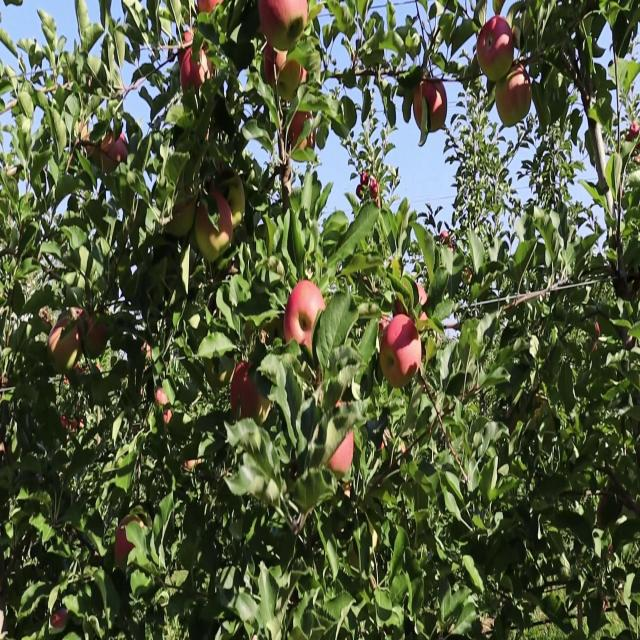apple: (284, 277, 328, 356), (380, 312, 424, 389), (196, 184, 235, 265), (476, 21, 517, 85), (496, 63, 533, 128), (264, 42, 300, 100), (232, 362, 265, 421), (416, 78, 449, 135), (48, 319, 78, 375), (180, 44, 212, 94), (328, 426, 356, 478), (276, 56, 303, 105), (116, 519, 144, 565), (172, 191, 197, 240), (192, 42, 216, 92), (84, 312, 109, 357), (100, 135, 128, 172), (264, 42, 287, 87), (284, 0, 311, 36), (260, 1, 285, 37), (292, 113, 315, 149), (156, 391, 173, 427), (196, 0, 224, 20), (360, 177, 381, 203), (596, 497, 607, 532), (592, 319, 603, 354), (52, 611, 68, 633), (40, 305, 53, 329), (160, 405, 173, 427), (184, 28, 197, 48), (156, 391, 170, 409), (164, 412, 173, 427)
